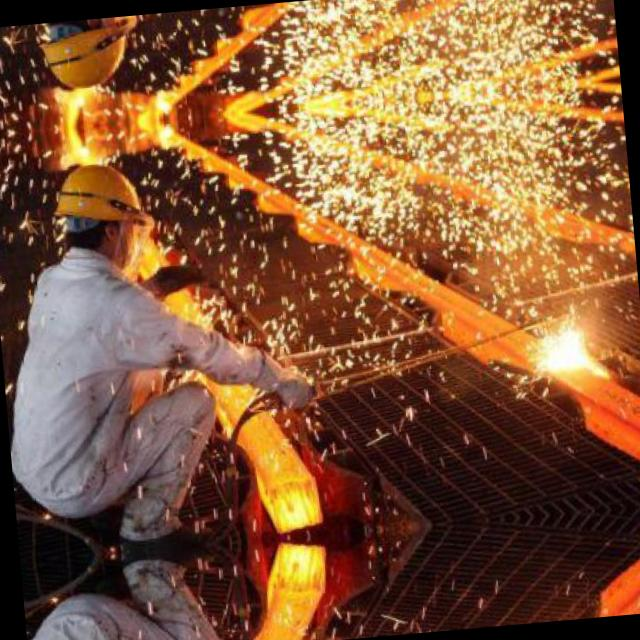helmet: (50, 150, 154, 274), (38, 15, 140, 100)
